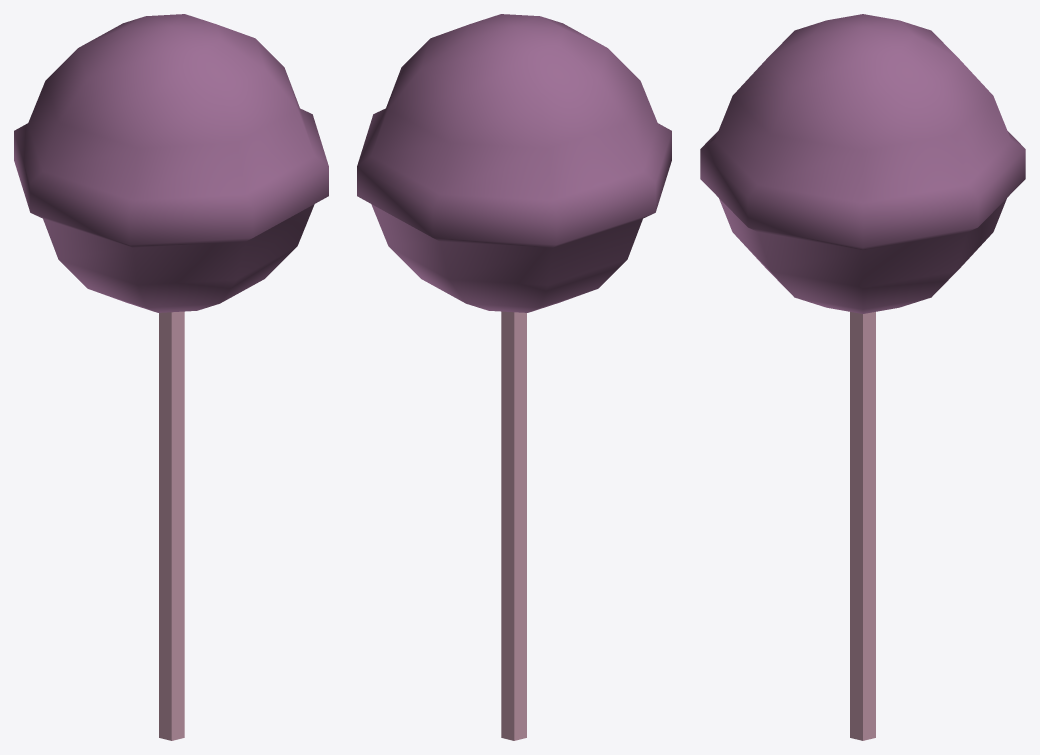
File: RoundLolly.fbx
3 renders of one model, left to right at view 1: azimuth 30°, elevation 25°; view 2: azimuth 150°, elevation 25°; view 3: azimuth 270°, elevation 25°, orthographic.
Visible parts, largest first — view 1: Lollipop; view 2: Lollipop; view 3: Lollipop.
Boxes of the visible parts, bbox=[...] form: Lollipop: bbox=[14, 14, 328, 740]; Lollipop: bbox=[357, 14, 671, 740]; Lollipop: bbox=[700, 14, 1025, 740].
Size of the model in its own units: 2.1 by 5.04 by 2.1.
